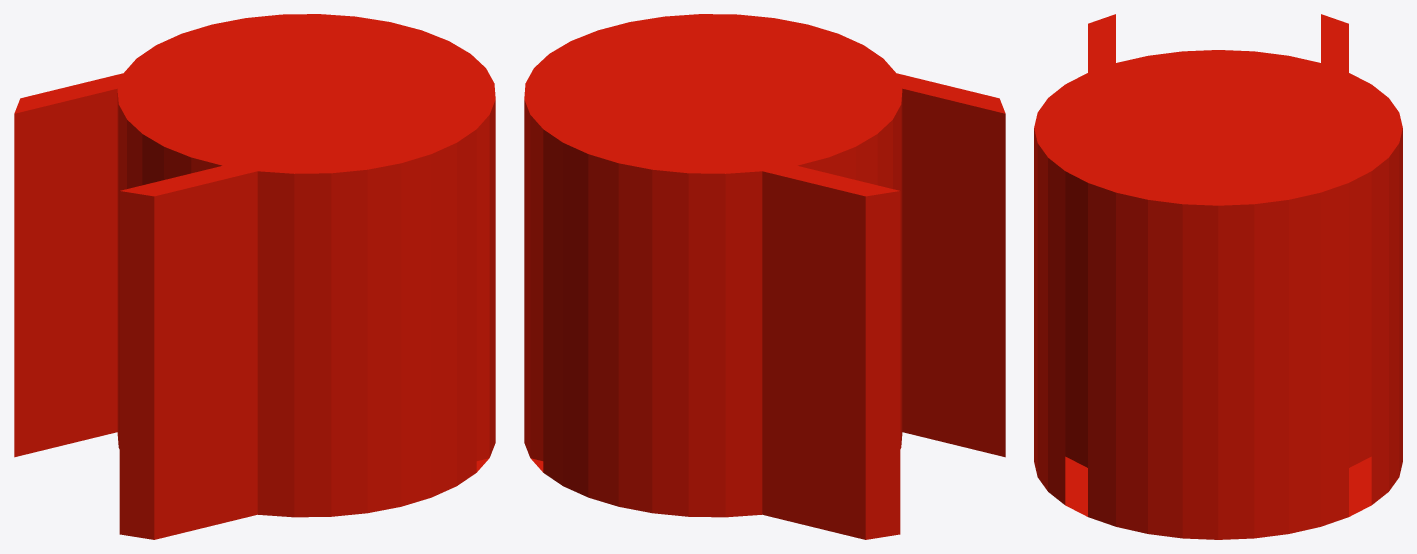
Rendered from flutterTestModel.gltf.
3 renders of one model, left to right at view 1: azimuth 30°, elevation 25°; view 2: azimuth 150°, elevation 25°; view 3: azimuth 270°, elevation 25°, orthographic. The views are drawn at different scales.
Visible parts, largest first — view 1: Cylinder; view 2: Cylinder; view 3: Cylinder.
Part boxes in pixels (bbox=[...]): Cylinder: bbox=[14, 14, 495, 539]; Cylinder: bbox=[524, 14, 1005, 539]; Cylinder: bbox=[1034, 14, 1402, 539].
Size of the model in its own units: 2.46 by 2 by 2.
